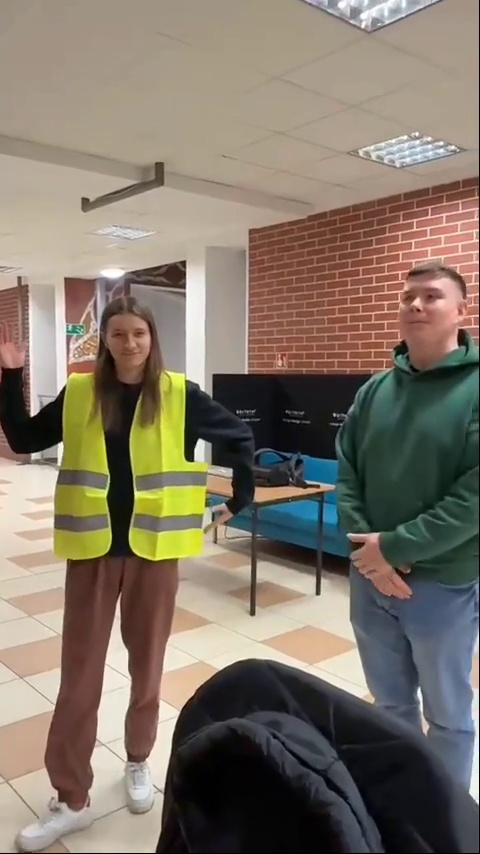no vest: (330, 271, 480, 752)
vest: (0, 297, 257, 846)
